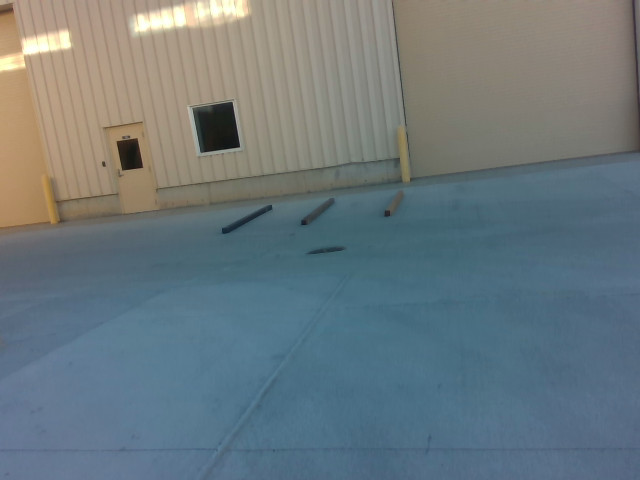Dunnage: (210, 185, 422, 241)
